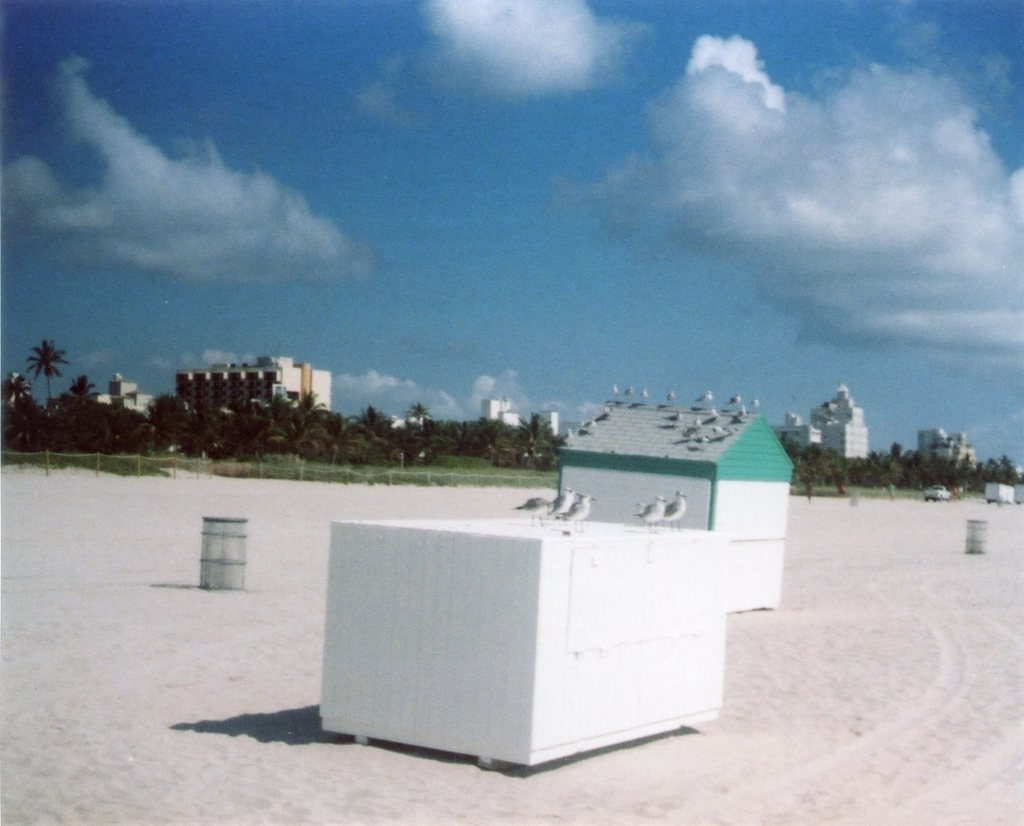Tree: (0, 378, 1023, 483), (24, 341, 74, 430)
